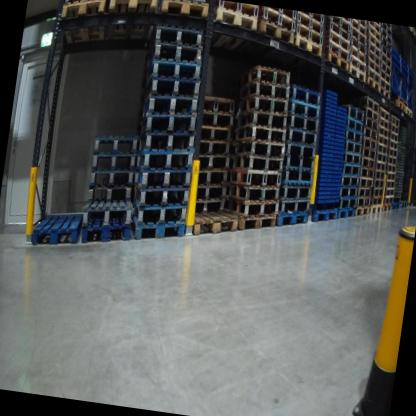pallet: (52, 0, 112, 56), (207, 6, 260, 61), (102, 0, 158, 52), (139, 55, 203, 98), (138, 23, 205, 63), (140, 72, 206, 111), (138, 87, 202, 127), (129, 124, 196, 162), (29, 203, 83, 250), (125, 212, 187, 252), (138, 106, 199, 145), (131, 158, 194, 195), (144, 40, 205, 77), (135, 141, 194, 178), (75, 216, 131, 254), (80, 192, 137, 229), (227, 63, 293, 94), (129, 178, 187, 213), (156, 0, 210, 37), (222, 178, 282, 208), (129, 196, 187, 227), (226, 207, 280, 239), (87, 157, 136, 191), (84, 178, 134, 211), (238, 104, 291, 134), (192, 208, 238, 242), (228, 191, 280, 221), (238, 78, 293, 106), (233, 122, 290, 149), (226, 165, 280, 192), (232, 150, 288, 176), (88, 146, 136, 175), (236, 92, 291, 117), (190, 176, 231, 209), (196, 102, 239, 133), (234, 136, 287, 161), (280, 160, 318, 192), (92, 132, 139, 157), (195, 118, 234, 147), (254, 18, 298, 43), (194, 162, 230, 191), (280, 176, 314, 206), (196, 92, 235, 118), (194, 147, 231, 174), (277, 202, 310, 232), (195, 131, 230, 158), (287, 94, 322, 120), (291, 33, 327, 58), (285, 124, 319, 149), (214, 0, 261, 18), (283, 138, 319, 161), (279, 194, 314, 217), (286, 113, 320, 135), (308, 205, 339, 229), (259, 7, 296, 27), (294, 12, 325, 35), (194, 193, 229, 213), (285, 149, 316, 171), (345, 24, 371, 50), (293, 23, 325, 44), (287, 83, 322, 102), (324, 30, 352, 53), (323, 40, 351, 63), (324, 22, 353, 44), (345, 64, 371, 86), (258, 5, 296, 20), (324, 51, 350, 72), (325, 15, 352, 33), (346, 40, 368, 62), (343, 113, 367, 133), (61, 0, 107, 10), (341, 104, 366, 121), (353, 189, 372, 211), (347, 52, 369, 71), (390, 95, 408, 118), (357, 97, 381, 114), (344, 128, 365, 147), (344, 140, 365, 158), (336, 193, 358, 210), (334, 205, 355, 222), (295, 11, 324, 23), (357, 172, 376, 190), (348, 34, 367, 52), (340, 171, 360, 187), (350, 204, 370, 220), (364, 75, 380, 95), (338, 163, 362, 176), (362, 133, 379, 151), (366, 31, 384, 48), (355, 182, 374, 198), (366, 40, 382, 59), (342, 153, 363, 167), (378, 60, 395, 77), (365, 65, 382, 82), (351, 19, 369, 35), (365, 56, 381, 73), (367, 25, 383, 42), (340, 183, 358, 198), (363, 105, 379, 121), (363, 115, 380, 130), (360, 156, 377, 171), (379, 71, 396, 86), (367, 203, 385, 217), (377, 78, 393, 93), (365, 125, 379, 142), (359, 166, 376, 180), (377, 85, 393, 99), (366, 50, 382, 64), (361, 146, 376, 160), (377, 115, 391, 130), (380, 27, 394, 42), (380, 22, 394, 37), (373, 159, 387, 173), (376, 122, 390, 136), (379, 52, 393, 66), (374, 142, 389, 155), (376, 131, 389, 146), (378, 107, 391, 122), (380, 33, 393, 48), (367, 21, 383, 33), (386, 146, 400, 159), (380, 45, 393, 58), (381, 186, 395, 198), (385, 170, 398, 182), (370, 187, 384, 198), (405, 104, 415, 119), (388, 122, 400, 134), (384, 177, 396, 189), (375, 150, 388, 161), (389, 113, 400, 126), (374, 171, 386, 182), (386, 161, 398, 172), (382, 201, 393, 213), (372, 179, 385, 189), (371, 195, 382, 206), (388, 133, 400, 142), (399, 198, 411, 207), (386, 155, 398, 163), (392, 202, 399, 214), (384, 196, 393, 205), (388, 141, 398, 149)
